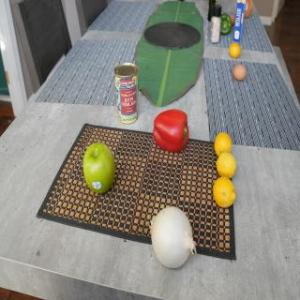bell_pepper: (152, 107, 192, 150), (219, 12, 231, 34)
egg: (232, 62, 248, 80)
onion: (149, 202, 195, 272)
